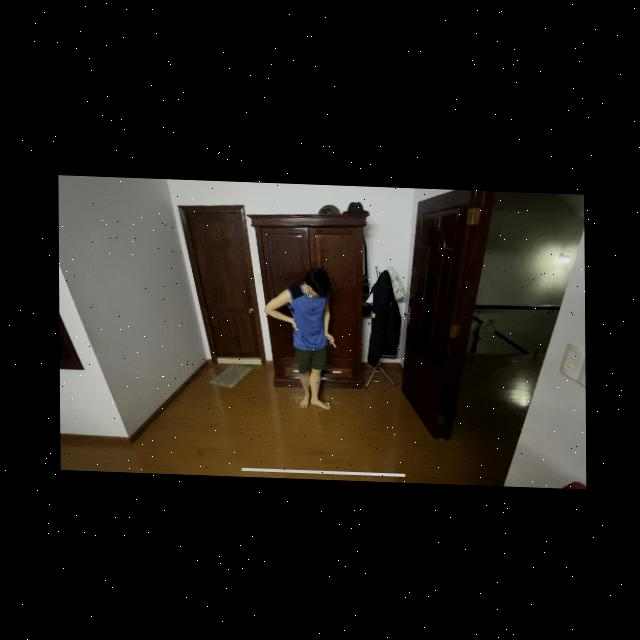cigarette: (330, 337, 335, 344)
